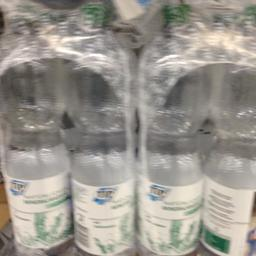water: (61, 2, 136, 255), (136, 2, 210, 255), (0, 0, 73, 255), (202, 4, 254, 252)
